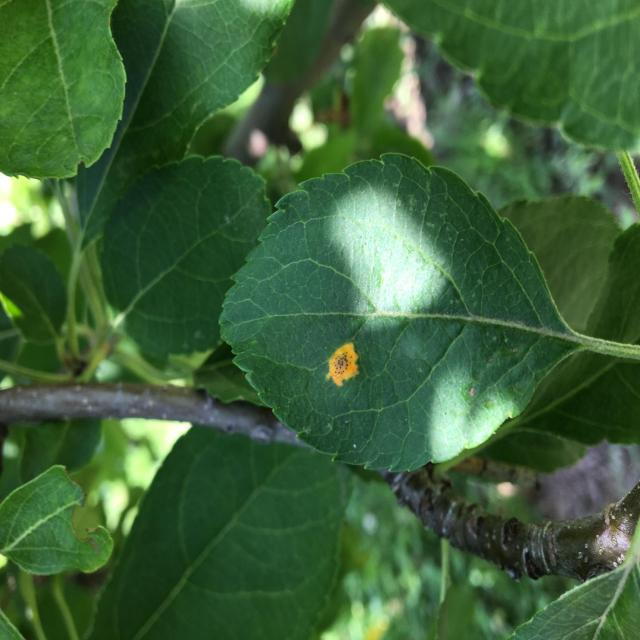Rust: (312, 332, 375, 407)
